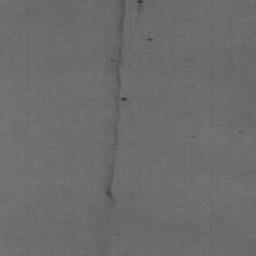Inclusion: (104, 0, 129, 207), (136, 0, 143, 14), (146, 36, 155, 42)
